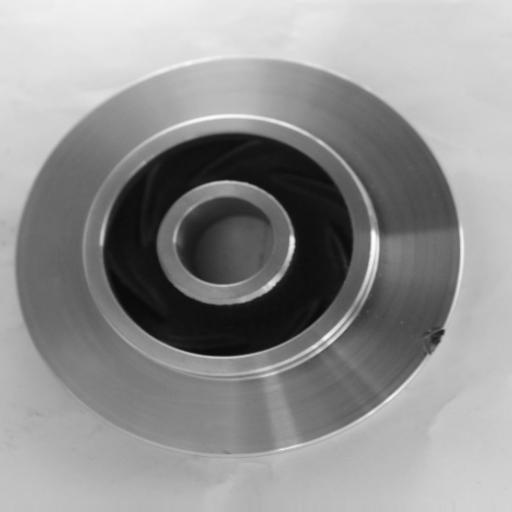crack: (414, 314, 453, 371)
unpolished_casting: (15, 53, 464, 458)
